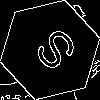S: (25, 25, 80, 81)
